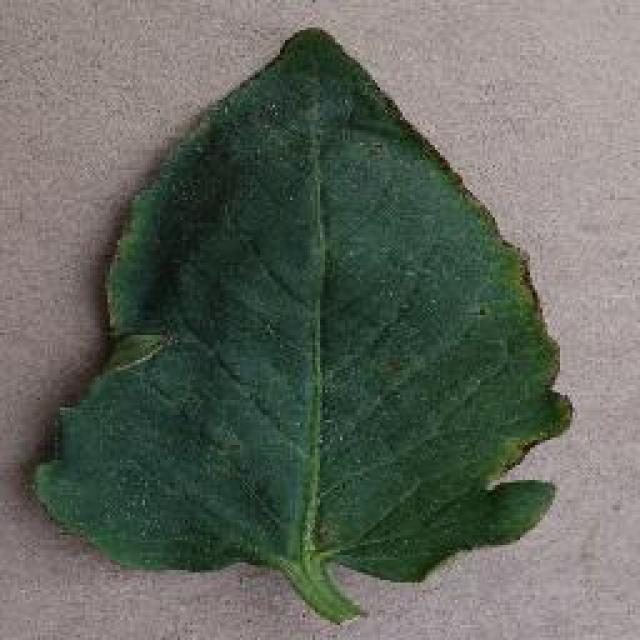Tom_Bacterial_spot: (348, 110, 412, 186), (294, 498, 350, 564)
